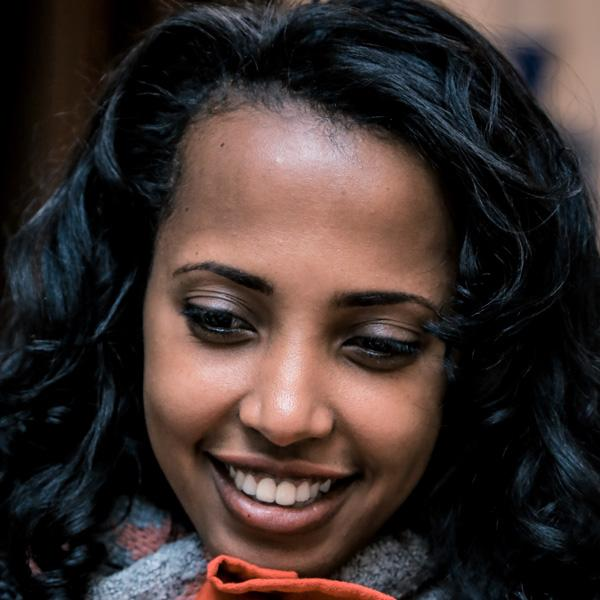Eyes: (333, 312, 428, 377), (176, 284, 265, 350)
